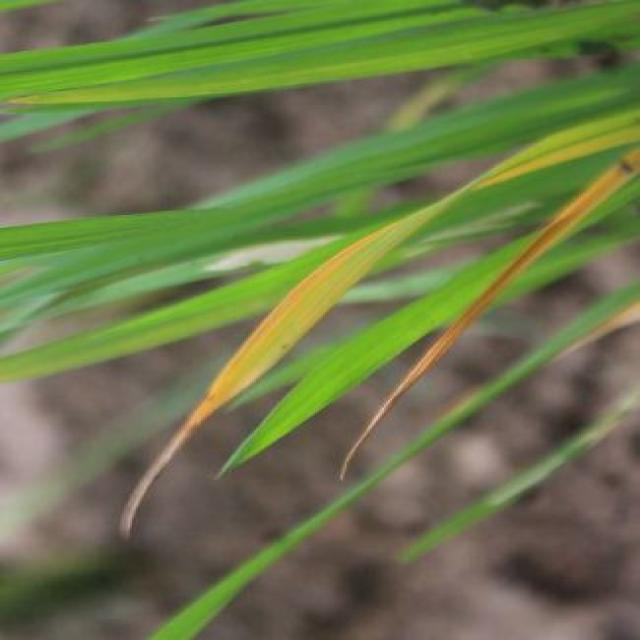Tungro: (129, 138, 640, 526)
